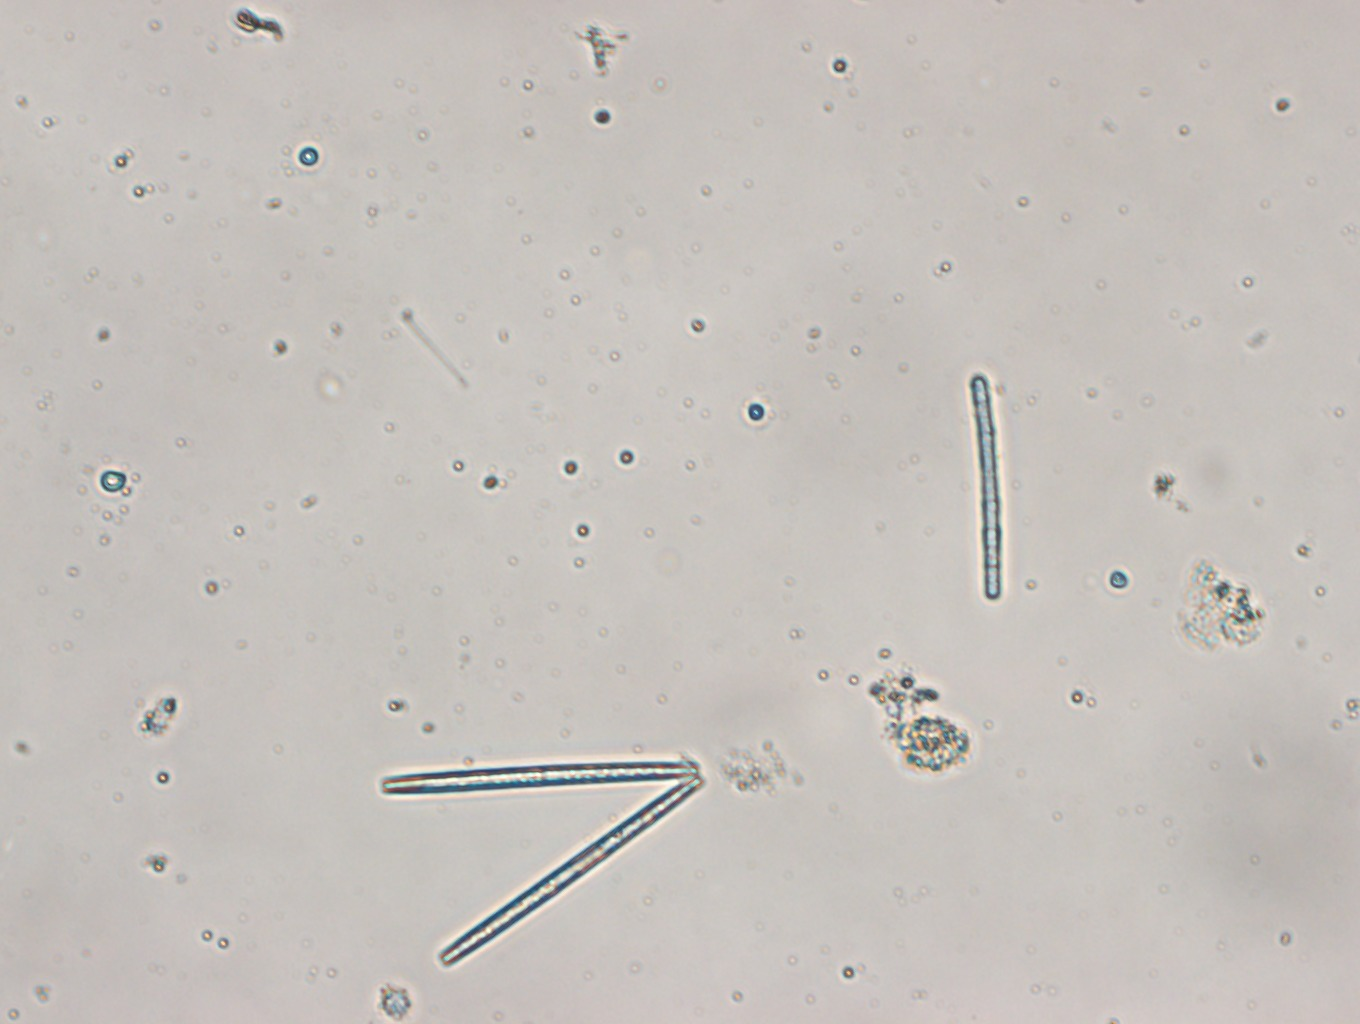thalassionema nitzschioides: (375, 742, 711, 975)
